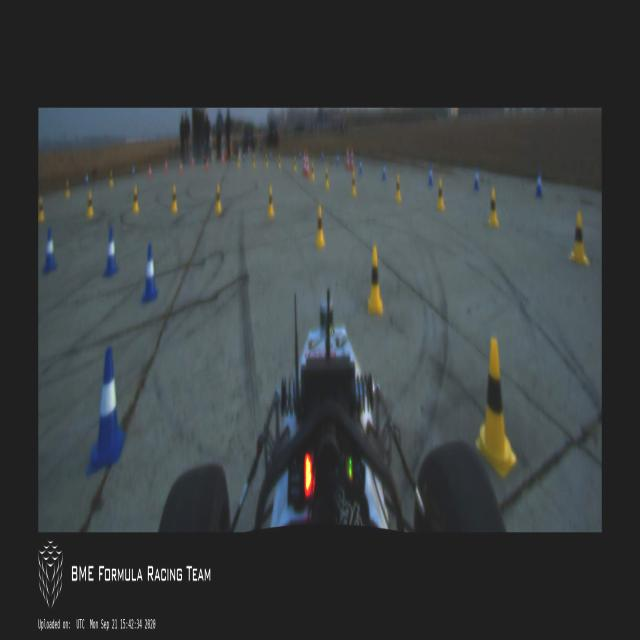blue_cone: (86, 348, 126, 473), (142, 243, 158, 300), (104, 225, 118, 277), (43, 228, 57, 274), (534, 168, 542, 198), (428, 163, 434, 187), (474, 167, 479, 191), (382, 162, 387, 180)
large_orange_cone: (305, 152, 309, 178), (302, 151, 306, 175), (346, 148, 350, 170), (350, 148, 354, 170)
yellow_cone: (476, 338, 516, 476), (569, 212, 589, 266), (368, 246, 383, 314), (488, 188, 498, 227), (316, 205, 324, 248), (86, 190, 95, 219), (437, 179, 445, 211), (268, 185, 274, 218), (216, 184, 222, 213), (396, 174, 402, 203), (133, 185, 139, 212), (172, 185, 178, 212), (351, 171, 357, 197), (39, 196, 44, 224), (325, 166, 329, 190), (311, 162, 315, 182)
